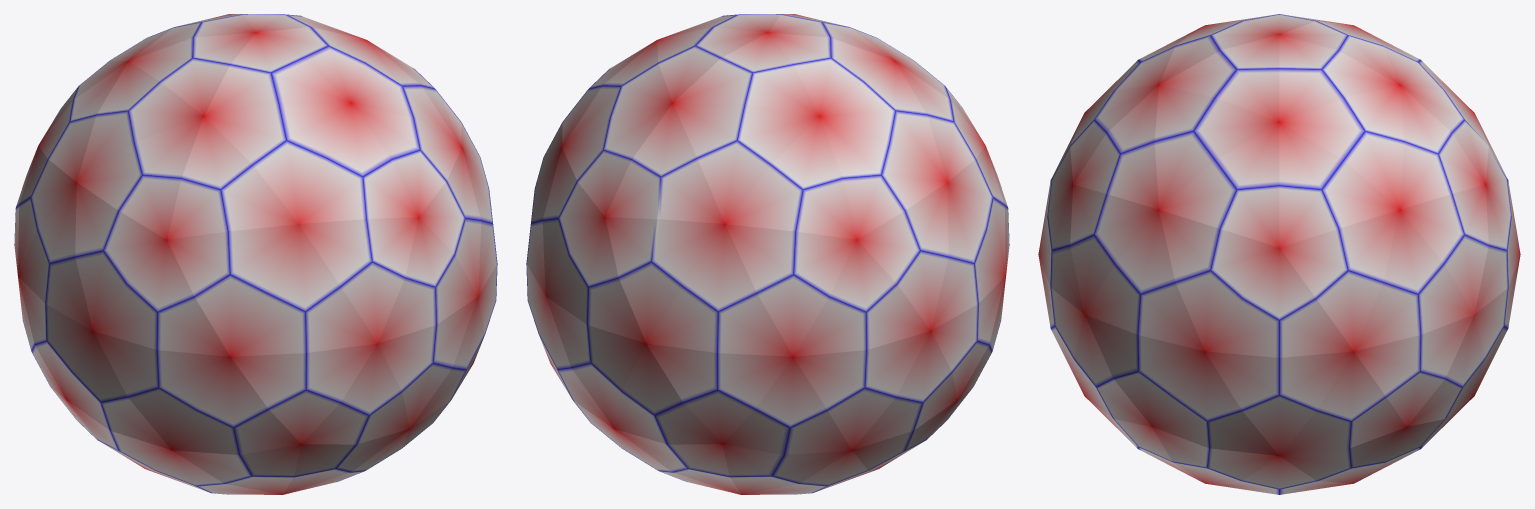
The model's file is Hex_Sphere.fbx.
3 renders of one model, left to right at view 1: azimuth 30°, elevation 25°; view 2: azimuth 150°, elevation 25°; view 3: azimuth 270°, elevation 25°, orthographic.
Visible parts, largest first — view 1: Icosphere; view 2: Icosphere; view 3: Icosphere.
Boxes of the visible parts, box(x1,y1,x2,y2) form: Icosphere: box(14, 14, 497, 494); Icosphere: box(526, 14, 1009, 494); Icosphere: box(1038, 14, 1520, 494).
Bounding box in the file's own units: 1477 × 1488 × 1480.
